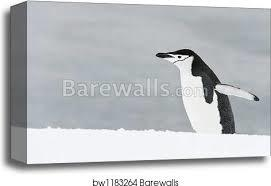chinstrap: (145, 44, 262, 143)
